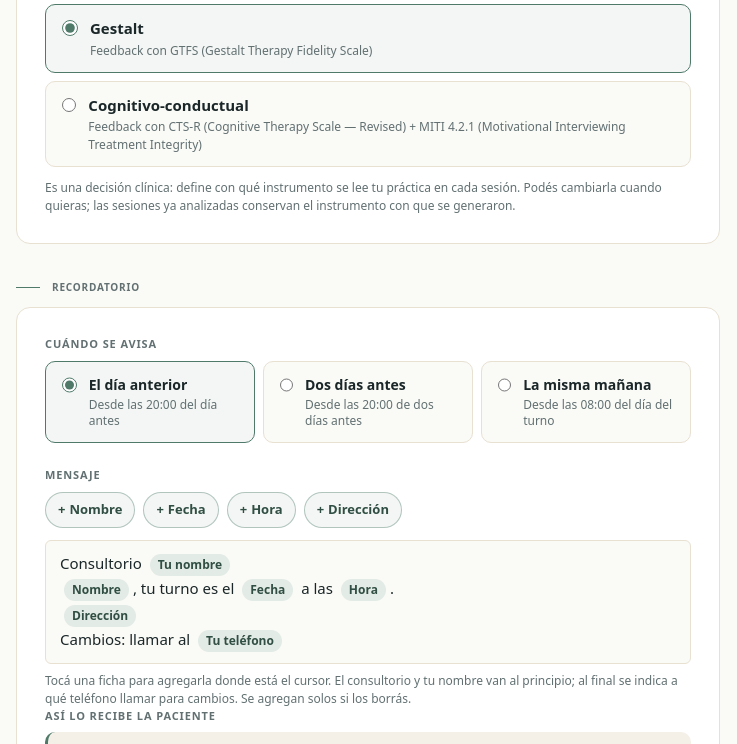
Cuándo se avisa › dice la hora real del aviso, la misma que calcula calcularProgramadoEn
The image size is (737, 744).
(page scrolled)
Expected: the text "Desde las 20:00 del día antes" is shown, [89,396,238,430]
Expected: the text "Desde las 20:00 de dos días antes" is shown, [305,396,456,430]
What coordinates should you click on to do the following:
click the radio button labelled "La misma mañana Desde las 08:00 del día del turno"
I would click on:
 (505, 384)
Its box is [498,376,511,392].
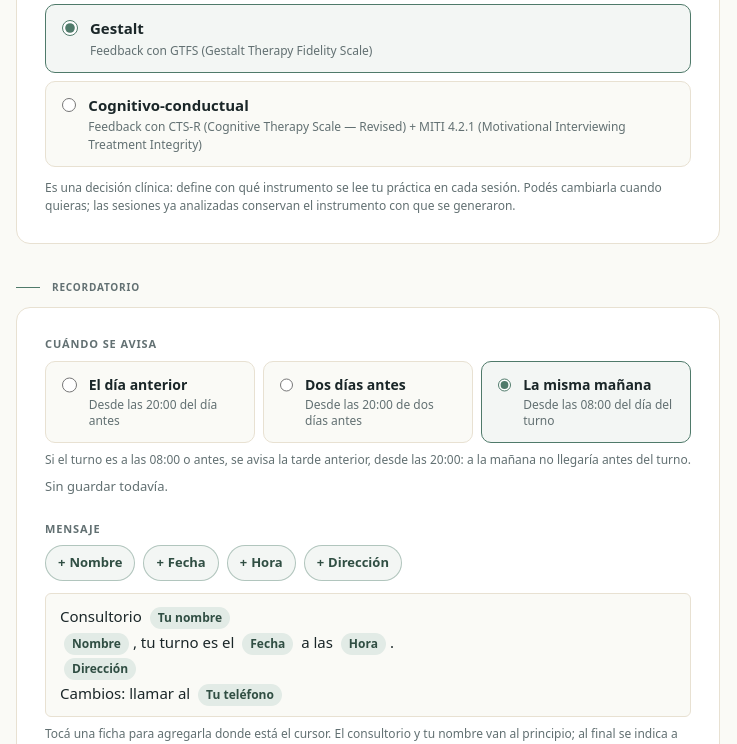
Result: the text "Si el turno es a las 08:00 o antes, se avisa la tarde anterior, desde las 20:00" is shown at [45,451,691,468]
